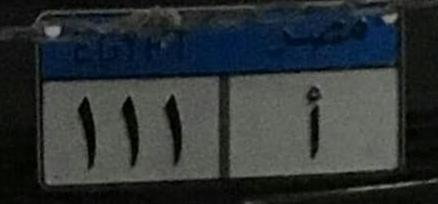1: (71, 88, 102, 175), (115, 90, 144, 170), (161, 90, 188, 166)
alif: (301, 80, 326, 165)
